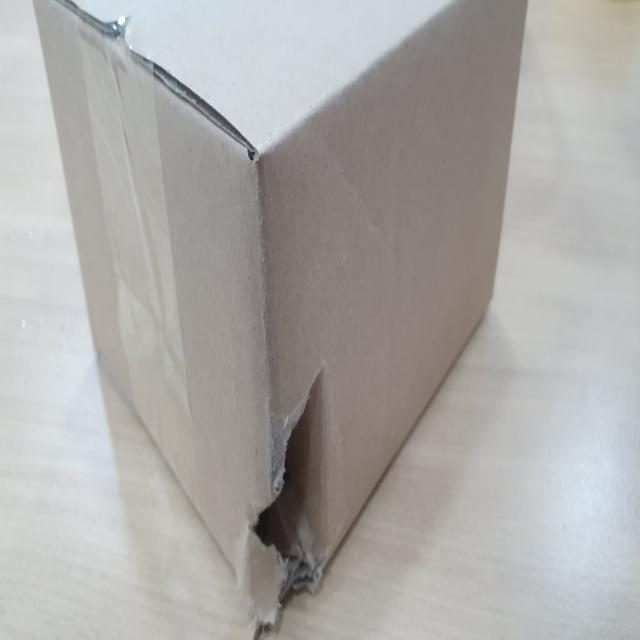hole: (248, 359, 329, 612)
